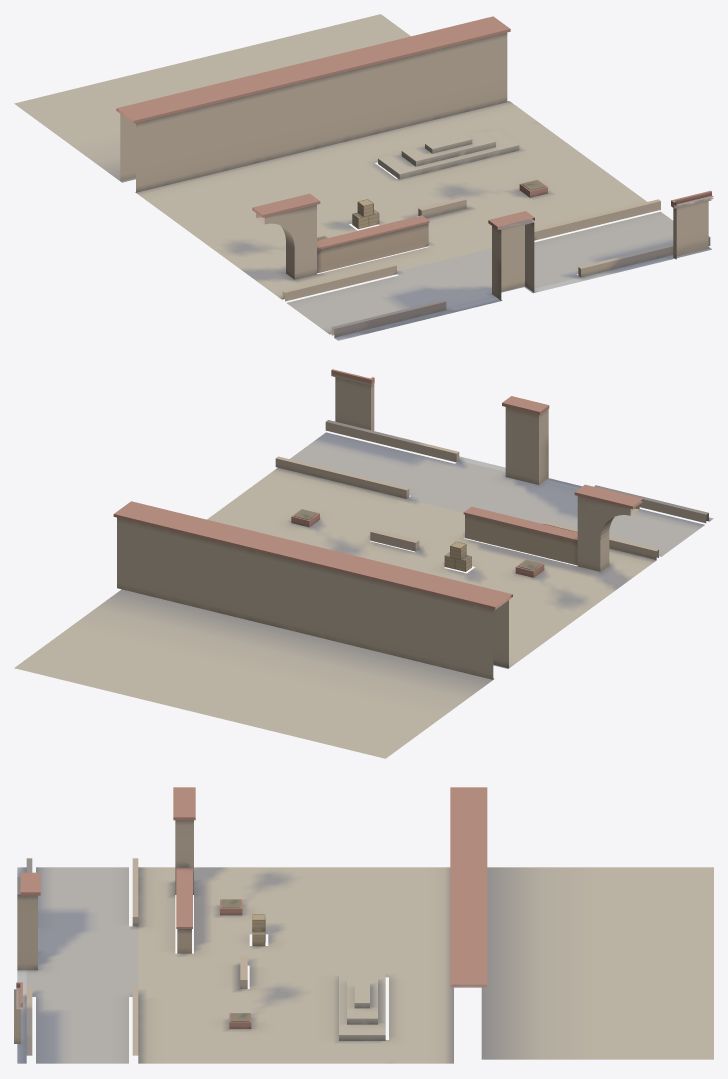
The picture shows the model from 3 angles, top to bottom: view 1: azimuth 30°, elevation 25°; view 2: azimuth 150°, elevation 25°; view 3: azimuth 270°, elevation 25°; orthographic projection. The views are drawn at different scales.
Parts seen in each view (by area): view 1: t; view 2: t; view 3: t.
Part boxes in pixels (box(x1,y1,x2,y2)): t: box(14, 14, 713, 340); t: box(14, 369, 713, 758); t: box(14, 787, 713, 1063).
Size of the model in its own units: 50.69 by 9.4 by 75.37.
